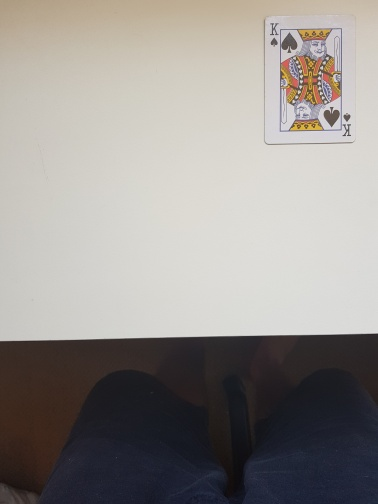king: (263, 13, 358, 146)
